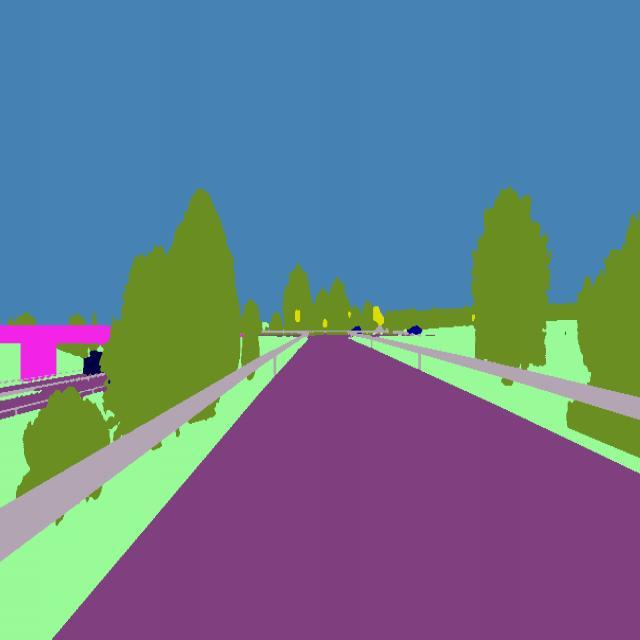safe: (402, 322, 428, 336), (348, 323, 366, 338)
